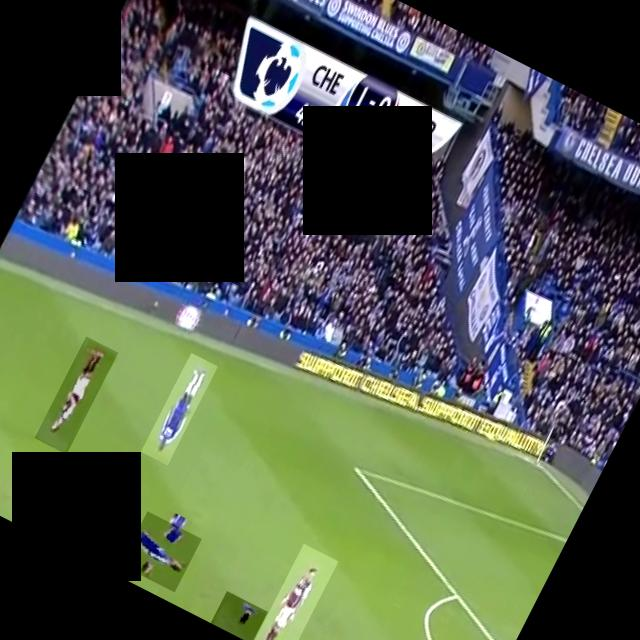soccer-player: (34, 336, 118, 454), (140, 353, 218, 466), (252, 544, 338, 640), (120, 512, 202, 592), (210, 591, 267, 640)
